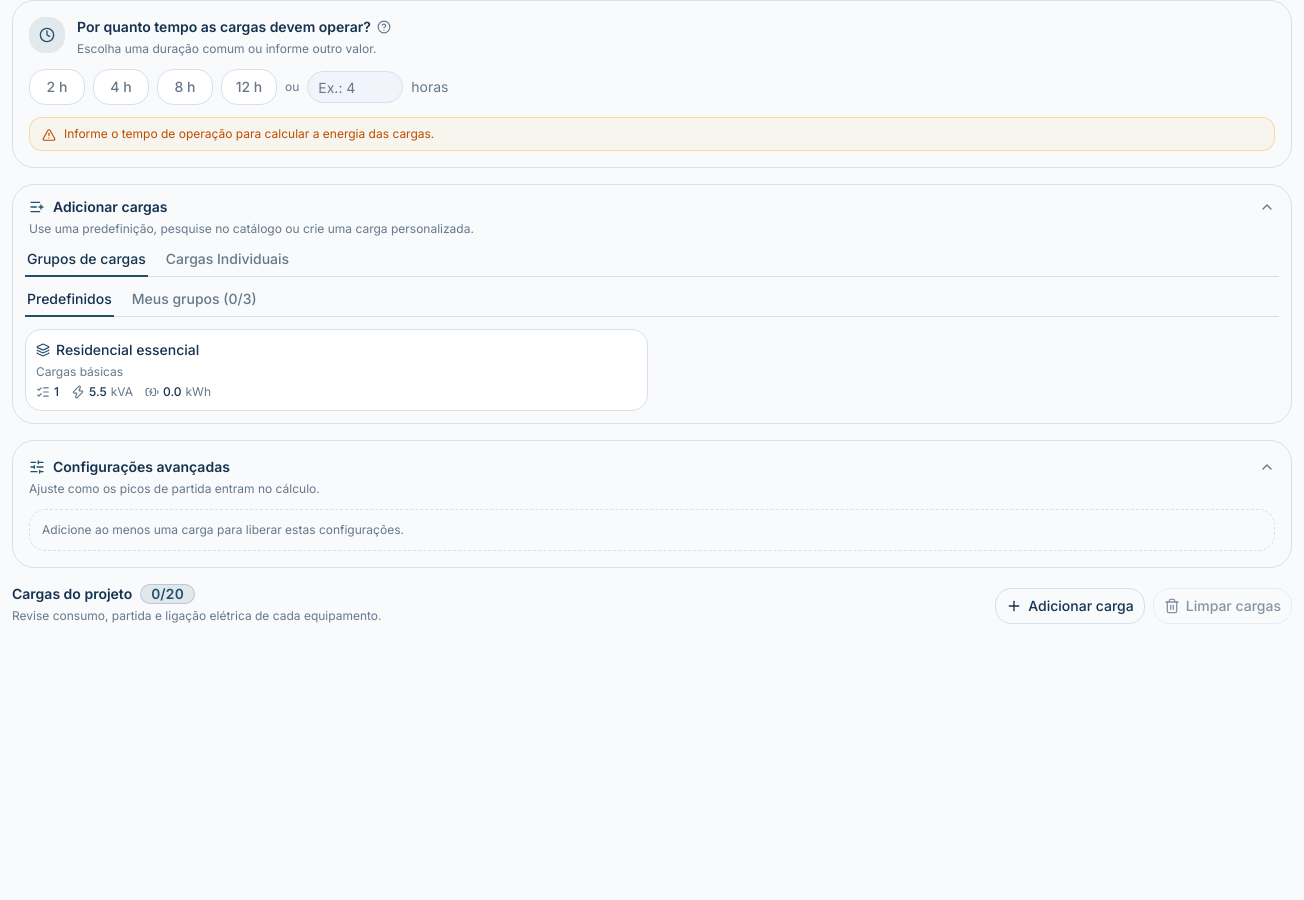
Scenario: LoadSelector: collapsible sections › toggles the whole Adicionar cargas section and hides the switcher while collapsed
This screenshot has width=1304, height=900.
Click the button with aria-label "Recolher cargas".
click(110, 206)  # box [25, 197, 1279, 241]
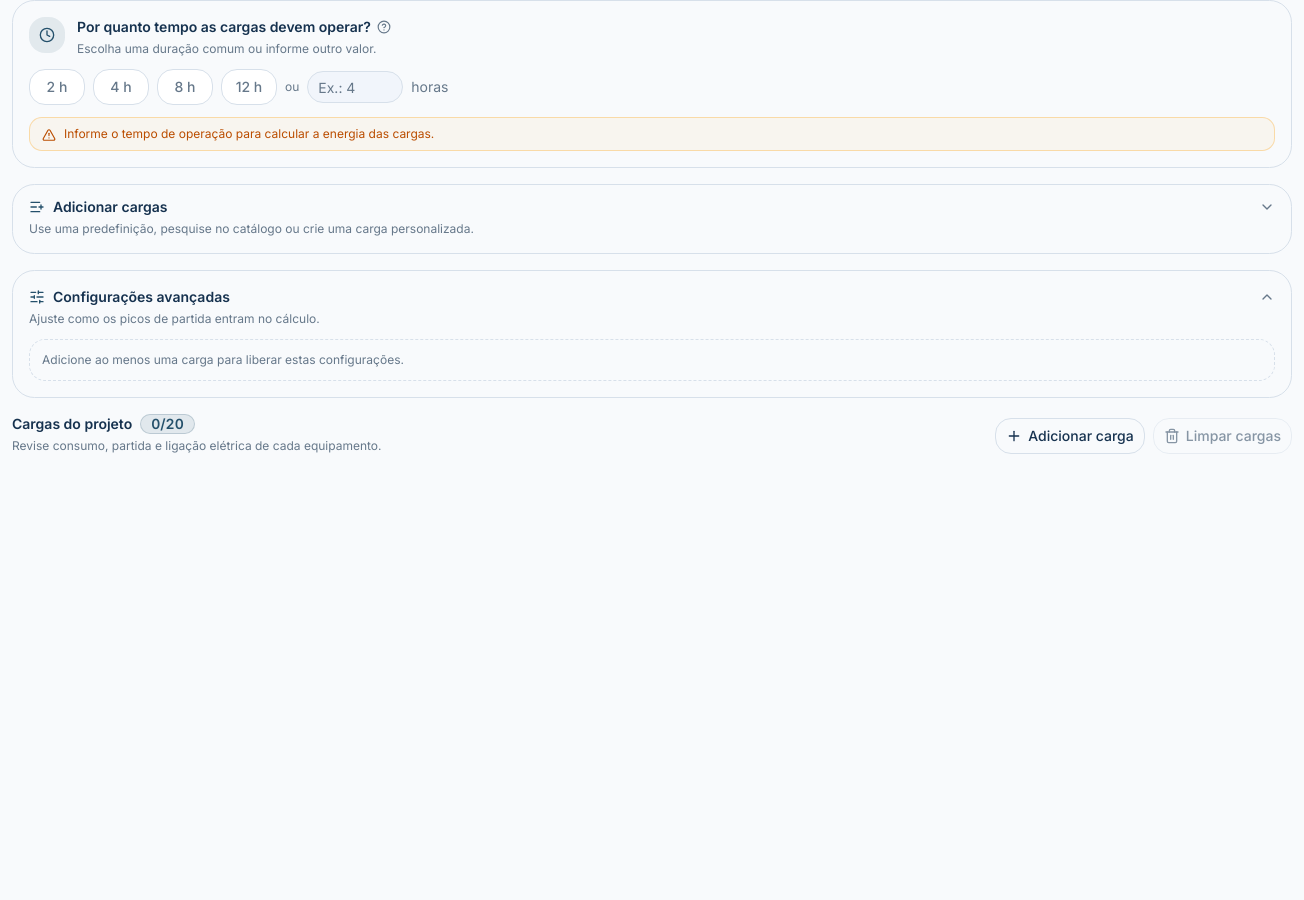
Now the tab "Grupos de cargas" is gone
Now the button "Residencial essencial" is gone
Click the button with aria-label "Expandir cargas".
click(110, 206)  # box [25, 197, 1279, 241]
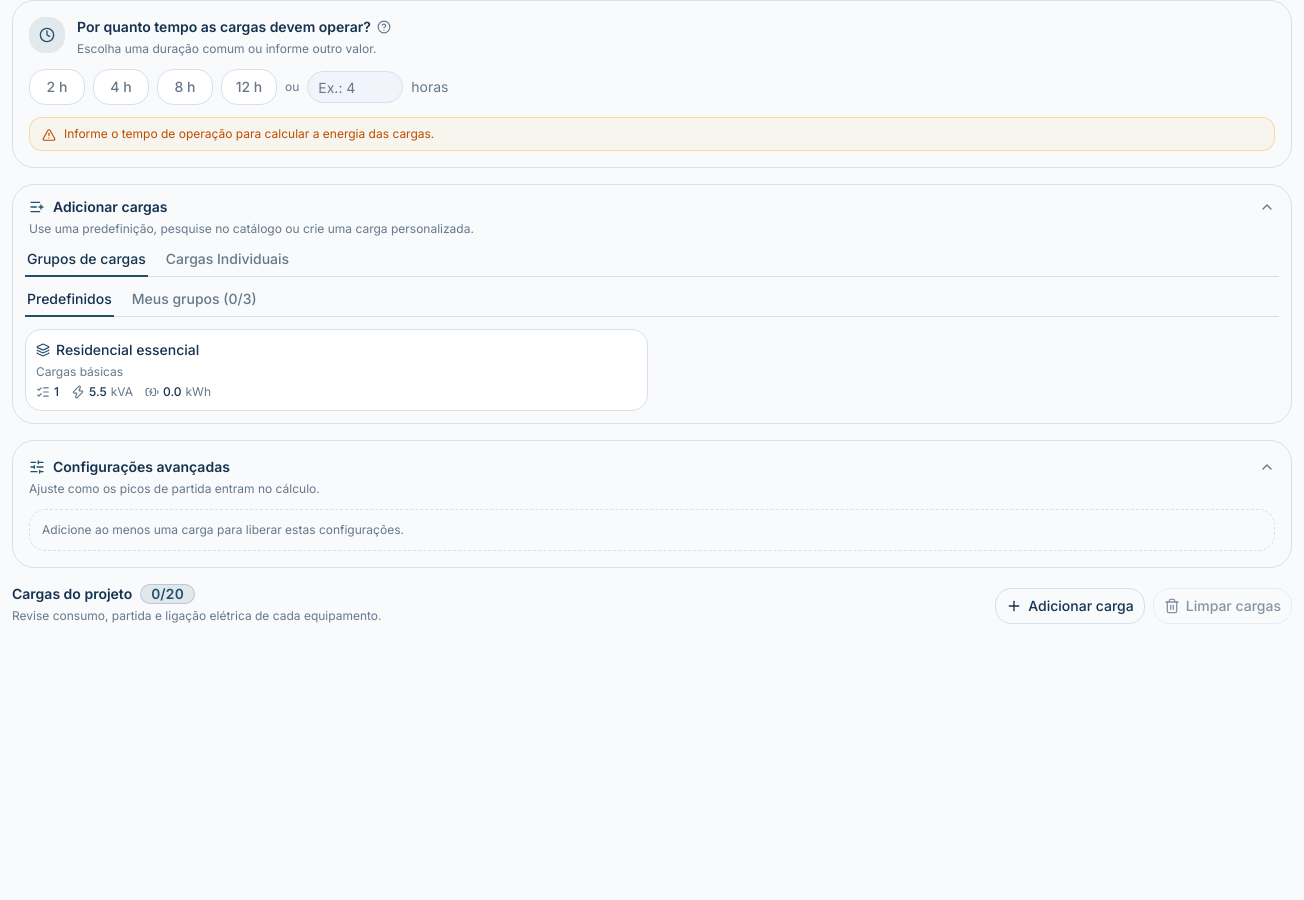
Now the text "Residencial essencial" is shown, box [56, 340, 199, 360]
